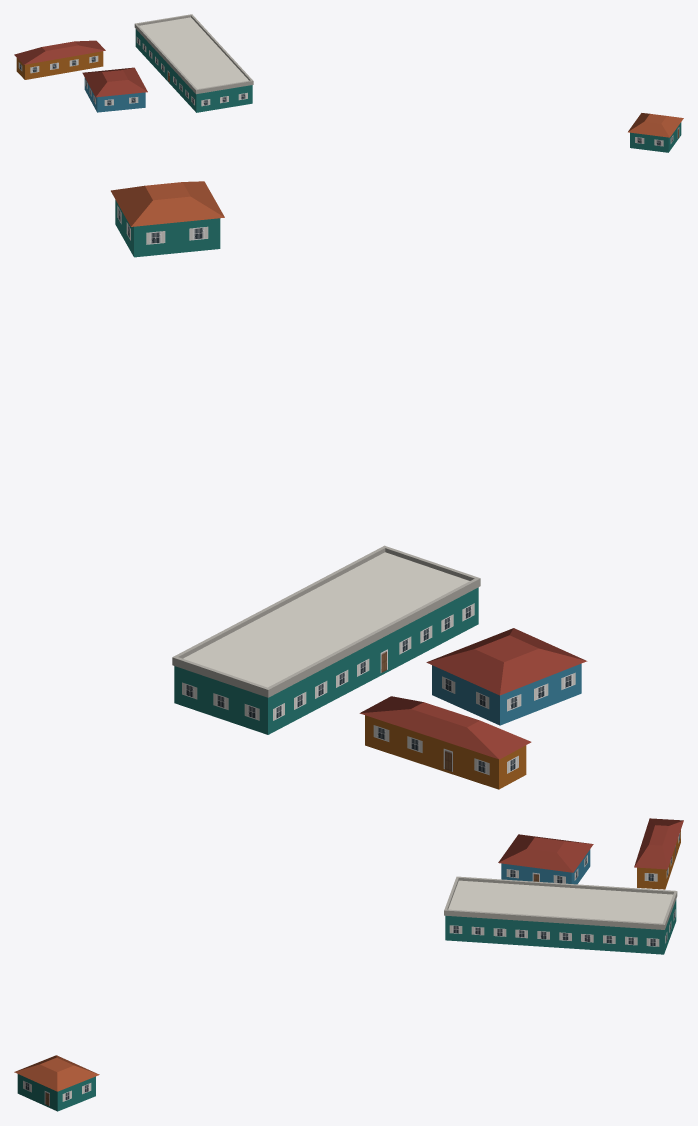
The model's file is msb_palmbeach_m23_m10.glb.
3 renders of one model, top to bottom at view 1: azimuth 30°, elevation 25°; view 2: azimuth 150°, elevation 25°; view 3: azimuth 270°, elevation 25°, orthographic. The views are drawn at different scales.
Visible parts, largest first — view 1: msb_palmbeach_m23_m10_lod0; view 2: msb_palmbeach_m23_m10_lod0; view 3: msb_palmbeach_m23_m10_lod0.
Boxes of the visible parts, left/top/right/bottom form: msb_palmbeach_m23_m10_lod0: left=14, top=14, right=683, bottom=152; msb_palmbeach_m23_m10_lod0: left=111, top=181, right=587, bottom=789; msb_palmbeach_m23_m10_lod0: left=14, top=818, right=683, bottom=1111.
Size of what is drawn, in the model's own units: 98.11 by 6.54 by 99.22.
3 materials, 1 textured.
